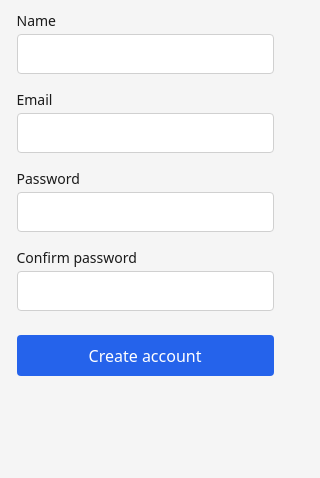
Test case: RegisterForm › shows validation errors and skips fetch when submitting an empty form
Click the button "Create account" at coordinates (145, 356), box [16,335,274,376]
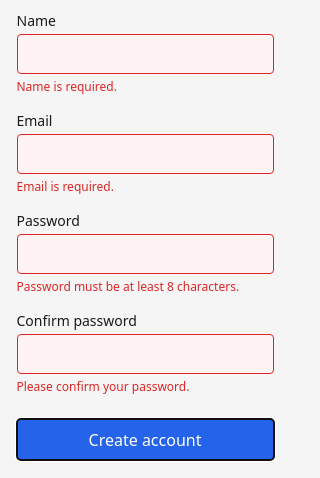
Now the text "Name is required." is shown, box [16,78,117,95]
Now the text "Email is required." is shown, box [16,178,114,195]
Now the text "Password must be at least 8 characters." is shown, box [16,278,274,295]
